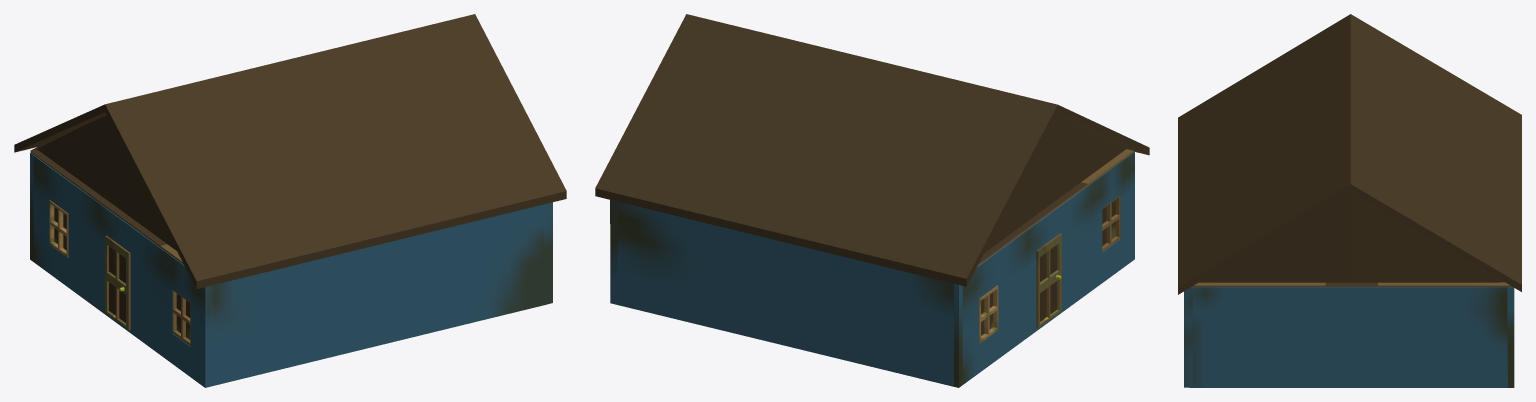
Rendered from Casa 1 Separada.fbx.
The picture shows the model from 3 angles, left to right: view 1: azimuth 30°, elevation 25°; view 2: azimuth 150°, elevation 25°; view 3: azimuth 270°, elevation 25°; orthographic projection. The views are drawn at different scales.
Visible parts, largest first — view 1: Cube.008, Cube.002; view 2: Cube.008, Cube.002; view 3: Cube.008, Cube.002.
Part boxes in pixels (box(x1,y1,x2,y2)): Cube.008: box(14, 14, 566, 288); Cube.002: box(30, 152, 552, 387); Cube.008: box(595, 14, 1149, 286); Cube.002: box(610, 152, 1134, 387); Cube.008: box(1178, 14, 1521, 294); Cube.002: box(1184, 287, 1514, 387).
Bounding box in the file's own units: 13631 × 7813 × 11648.
Materials: 1 (1 with a texture image).
